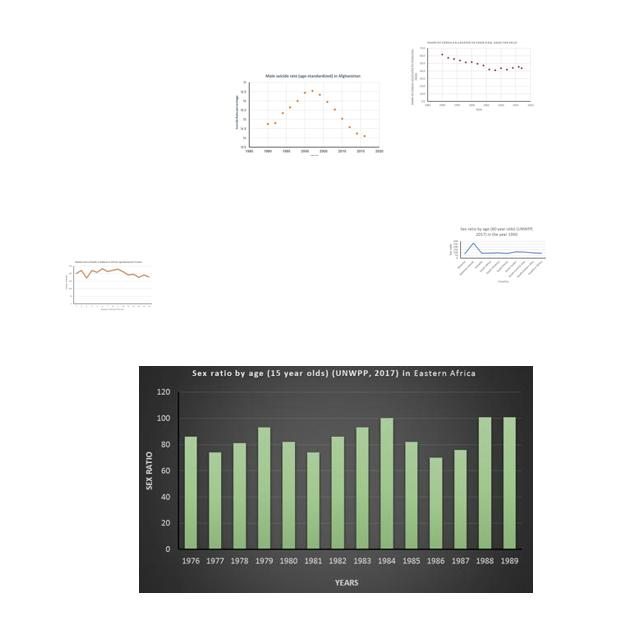Graph: (139, 366, 533, 593), (233, 72, 385, 156), (408, 39, 536, 115), (446, 226, 548, 287), (63, 259, 154, 313)
